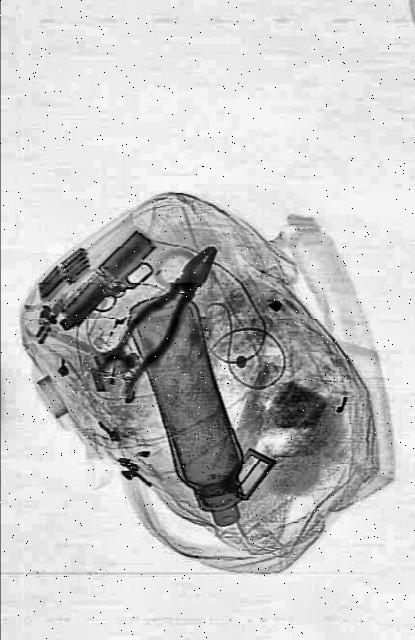Pliers: (93, 229, 227, 411)
